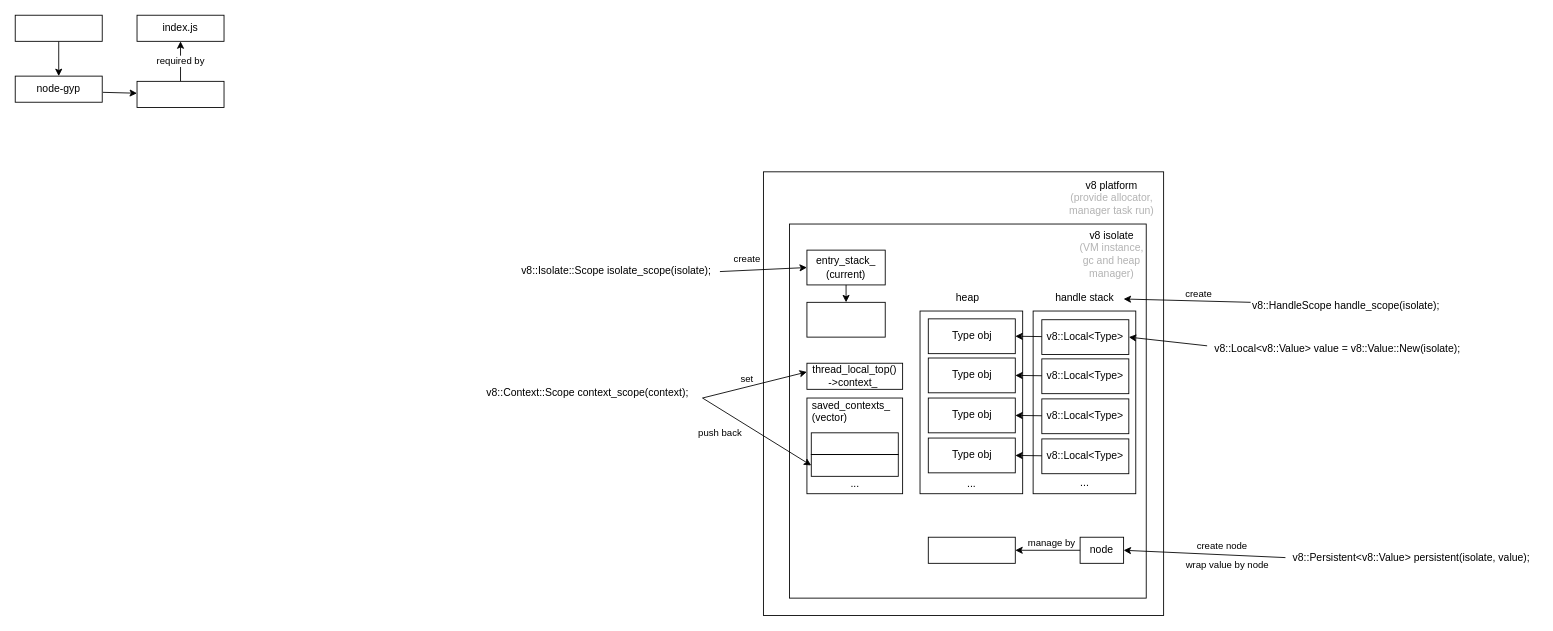
Image size: 1553x631. Some labels were removed from this diagram. The shapes that lost their labels are listed below. From the top down, each one's box as (x1, y1, x2, y2) in pixels, then its label:
(14, 14, 102, 41): source code
(136, 80, 224, 107): cpp addon
(806, 301, 885, 337): entry_stack_ (previous)
(810, 432, 898, 455): saved_context 0
(810, 454, 898, 476): saved_context 1
(927, 536, 1015, 563): global_handles
